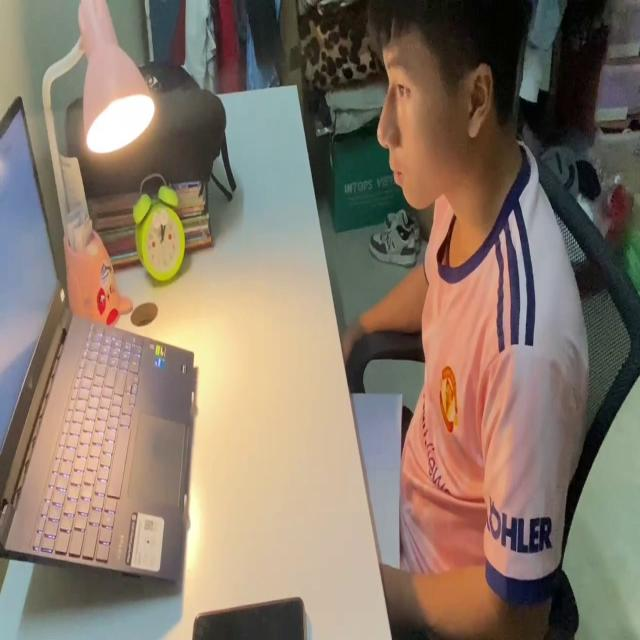book: (348, 380, 402, 574)
laptop: (1, 90, 197, 593)
phone: (186, 593, 306, 640)
student: (339, 0, 586, 640)
